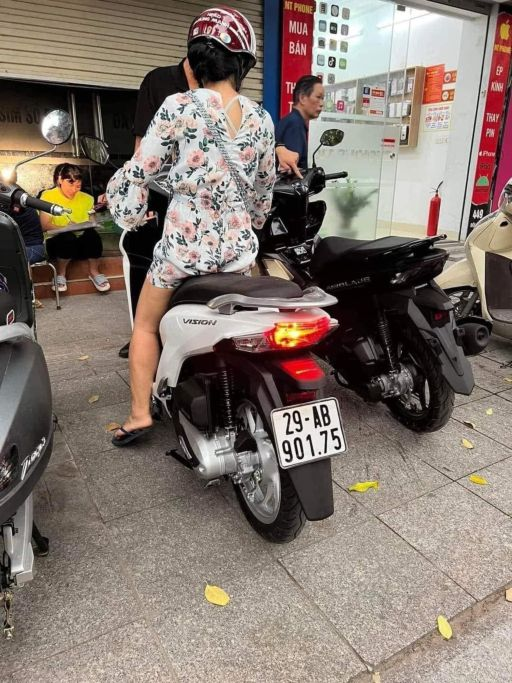Bien-so: (273, 397, 350, 472)
